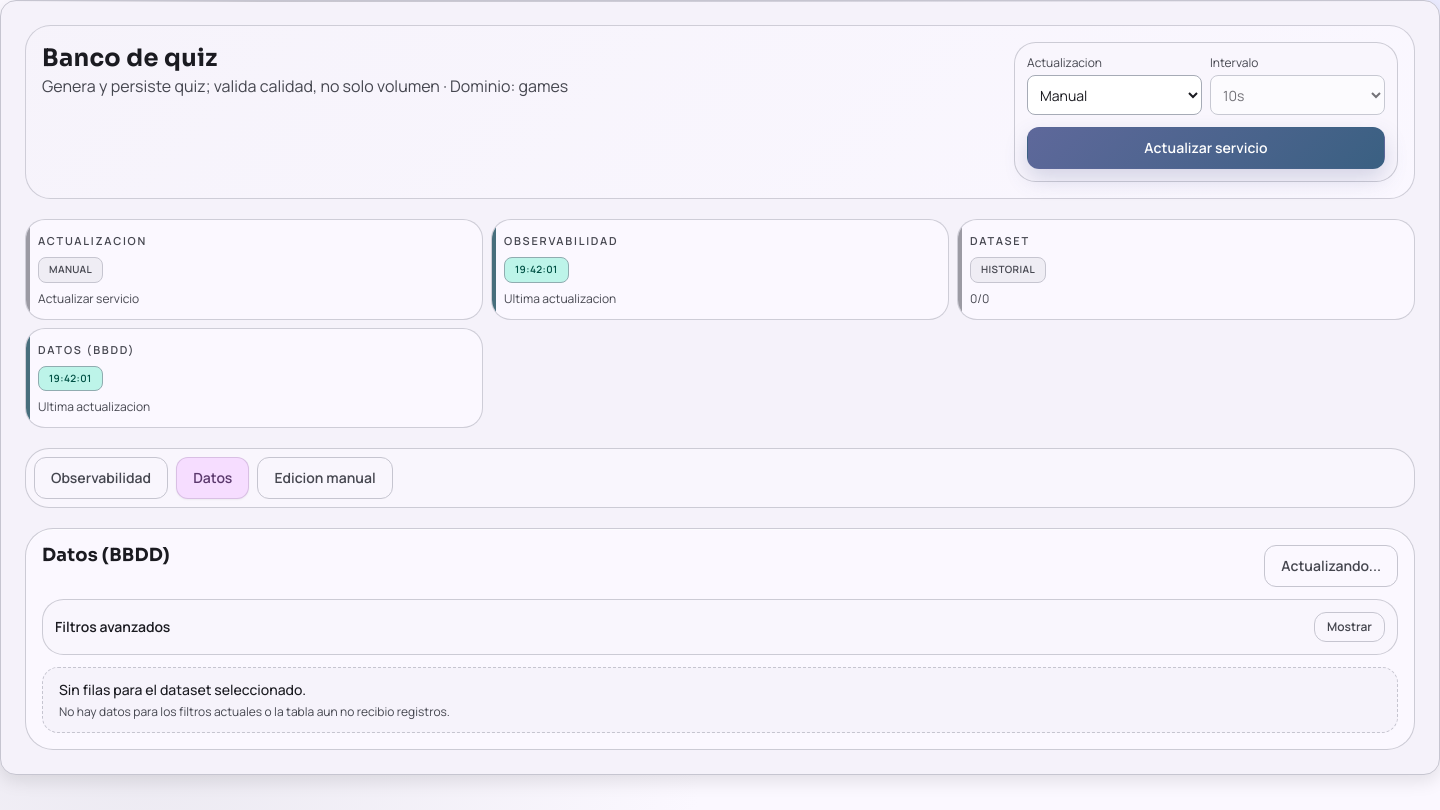
ServiceConsolePanel integration › opens the manual editor from its dedicated tab for game history datasets
The width and height of the screenshot is (1440, 810).
Expected: the tab "Datos" is shown, [176,457,249,499]
Expected: the field labelled "Categoria" is not shown
Click the tab "Edicion manual". click: [325, 478]
box: [257,457,393,499]
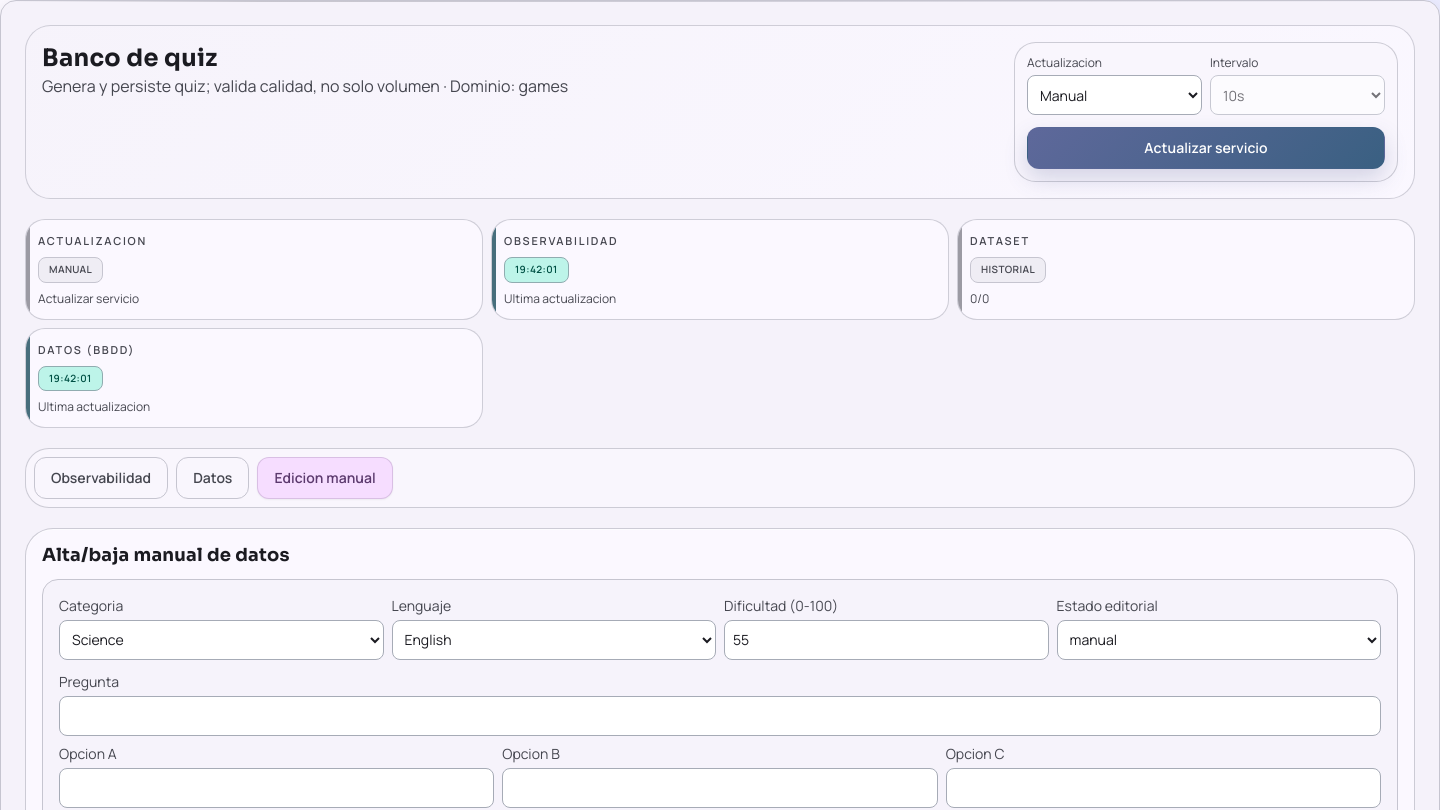
Now the dropdown labelled "Categoria" is shown, box [59,620,384,660]
